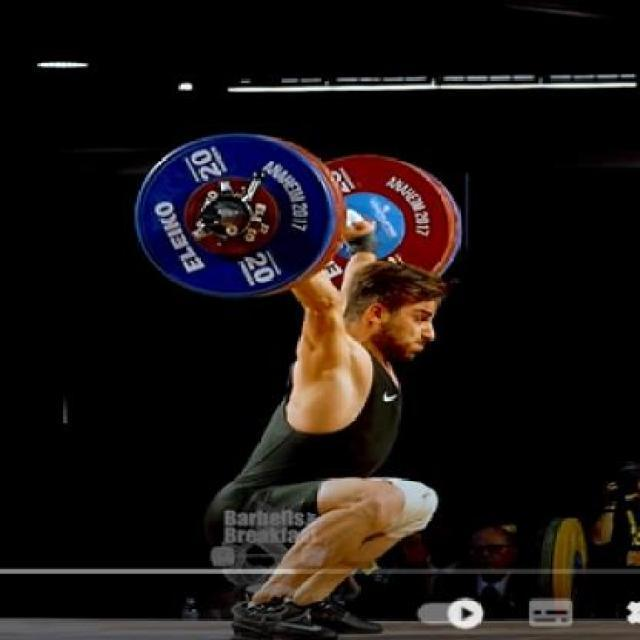barbell: (127, 123, 367, 310)
